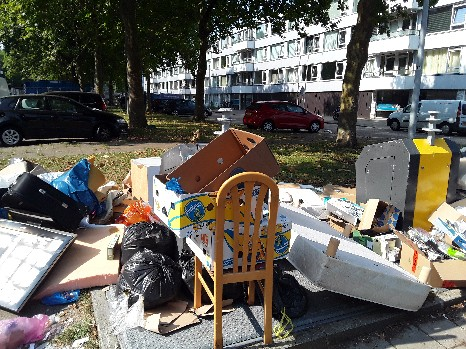Container: (348, 126, 451, 202)
Papier: (404, 220, 460, 300), (353, 209, 411, 240), (438, 207, 460, 235)
Rest: (196, 182, 285, 349), (290, 192, 392, 308), (46, 225, 124, 304), (0, 154, 75, 228), (117, 241, 170, 319), (59, 150, 112, 218), (8, 225, 44, 320), (110, 230, 174, 274), (116, 154, 156, 221)
